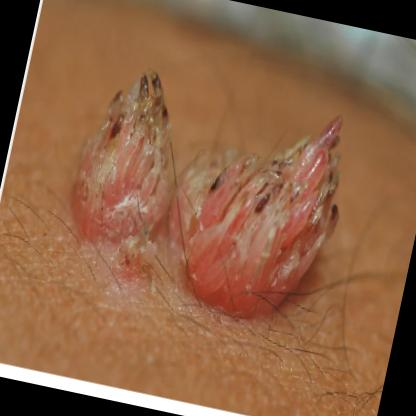Warts: (146, 46, 366, 362), (50, 26, 208, 284)
